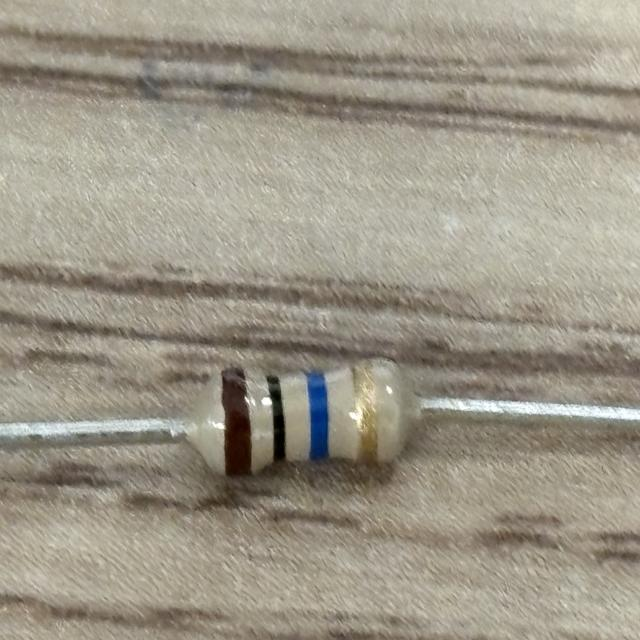resistor: (201, 355, 405, 483)
